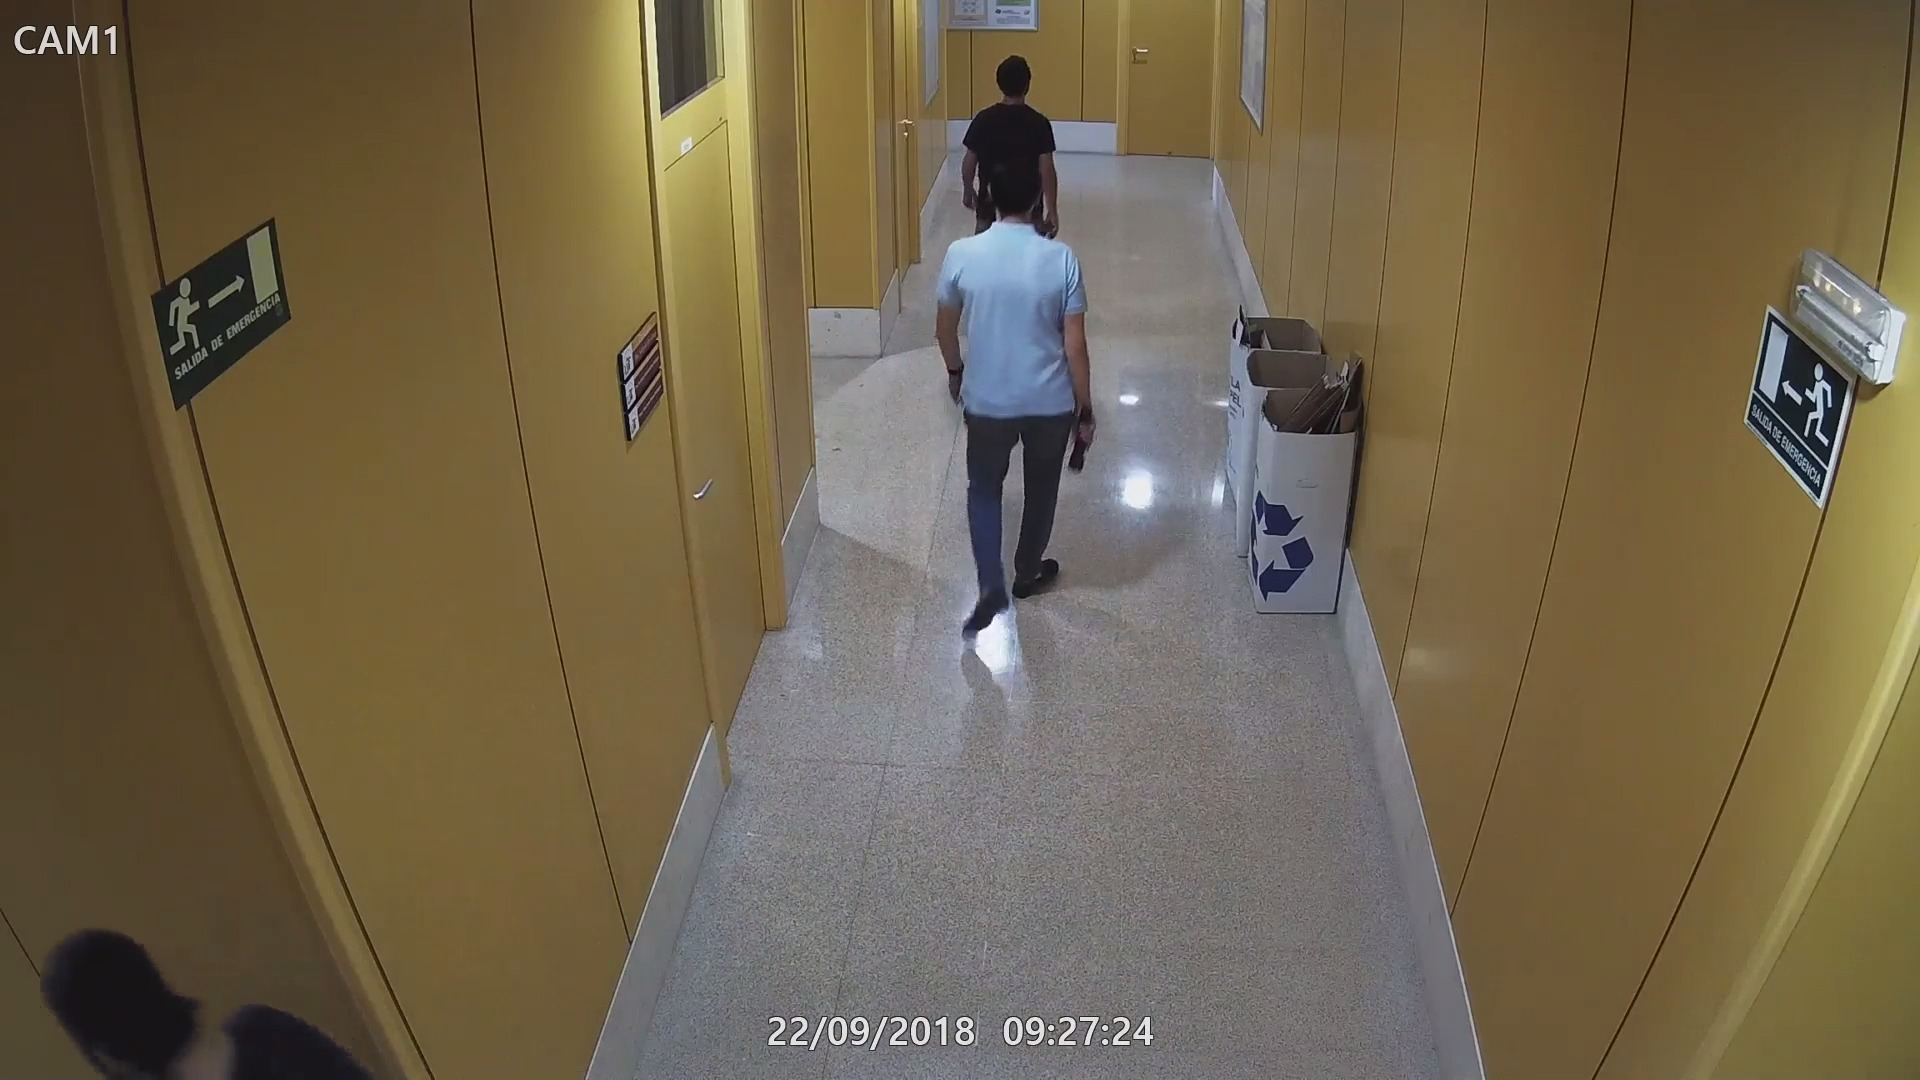Handgun: (1038, 212, 1065, 237)
